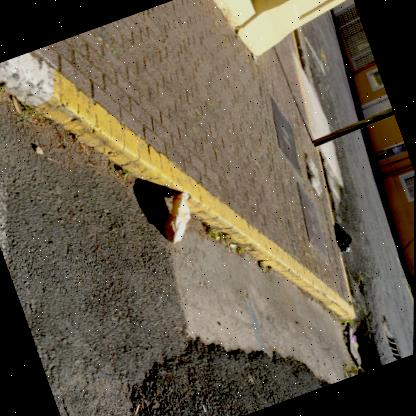Paper: (161, 192, 190, 244), (348, 333, 358, 350), (343, 330, 347, 343)
Plastic: (334, 223, 350, 254)
